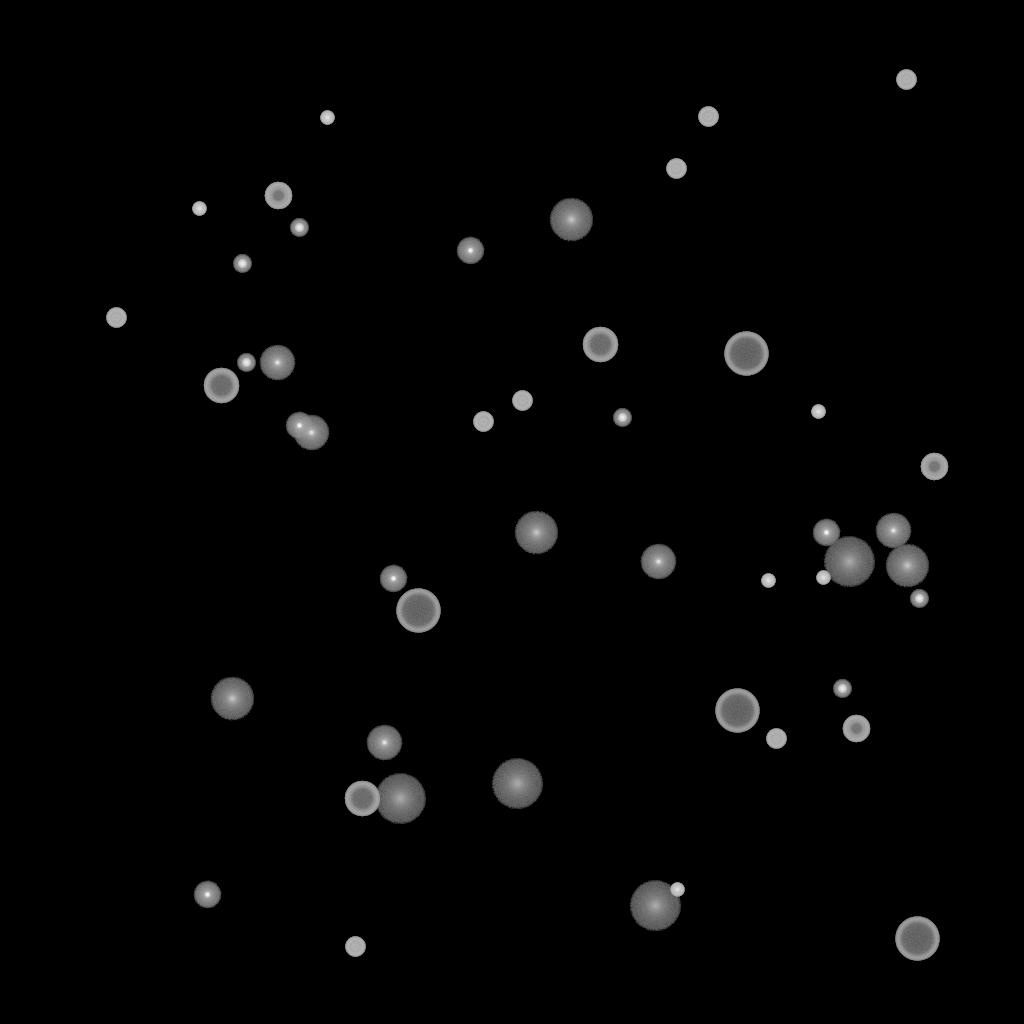depth:-10: (812, 519, 840, 547), (379, 565, 407, 593), (285, 412, 313, 440), (193, 881, 221, 909), (456, 237, 484, 265)
depth:-20: (233, 255, 251, 273), (237, 354, 255, 372), (290, 219, 308, 237), (833, 680, 851, 698), (910, 590, 928, 608), (613, 409, 631, 427)
depth:-30: (761, 574, 775, 588), (192, 202, 206, 216), (320, 111, 334, 125), (811, 405, 825, 419), (670, 883, 684, 897), (816, 571, 830, 585)
depth:-40: (512, 391, 532, 411), (766, 729, 786, 749), (896, 70, 916, 90), (666, 159, 686, 179), (106, 308, 126, 328), (698, 107, 718, 127), (473, 412, 493, 432), (345, 937, 365, 957)
depth:-50: (842, 715, 870, 743), (920, 453, 948, 481), (264, 182, 292, 210)
depth:-60: (582, 327, 618, 363), (344, 781, 380, 817), (203, 368, 239, 404)
depth:-70: (396, 589, 440, 633), (895, 917, 939, 961), (715, 689, 759, 733), (724, 332, 768, 376)
depth:0: (259, 345, 295, 381), (875, 513, 911, 549), (640, 544, 676, 580), (293, 415, 329, 451), (366, 725, 402, 761)
depth:10: (210, 677, 254, 721), (514, 511, 558, 555), (885, 544, 929, 588), (549, 198, 593, 242)
depth:20: (629, 881, 681, 931), (374, 774, 426, 824), (823, 537, 875, 587), (491, 759, 543, 809)
